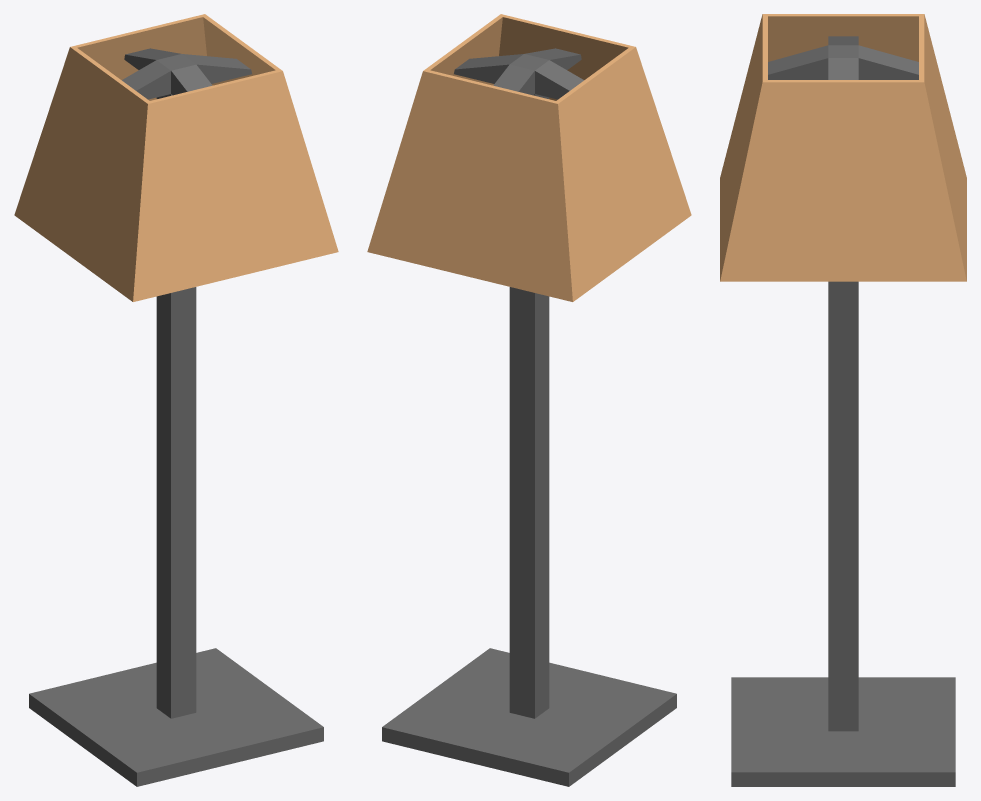
Rendered from Lamp.fbx.
The picture shows the model from 3 angles, left to right: view 1: azimuth 30°, elevation 25°; view 2: azimuth 150°, elevation 25°; view 3: azimuth 270°, elevation 25°; orthographic projection. The views are drawn at different scales.
Visible parts, largest first — view 1: Cube; view 2: Cube; view 3: Cube.
Boxes of the visible parts, x1,y1,x2,y2 form: Cube: (14, 14, 338, 786); Cube: (367, 14, 691, 786); Cube: (720, 14, 966, 786).
Bounding box in the file's own units: 331 × 1024 × 331.
